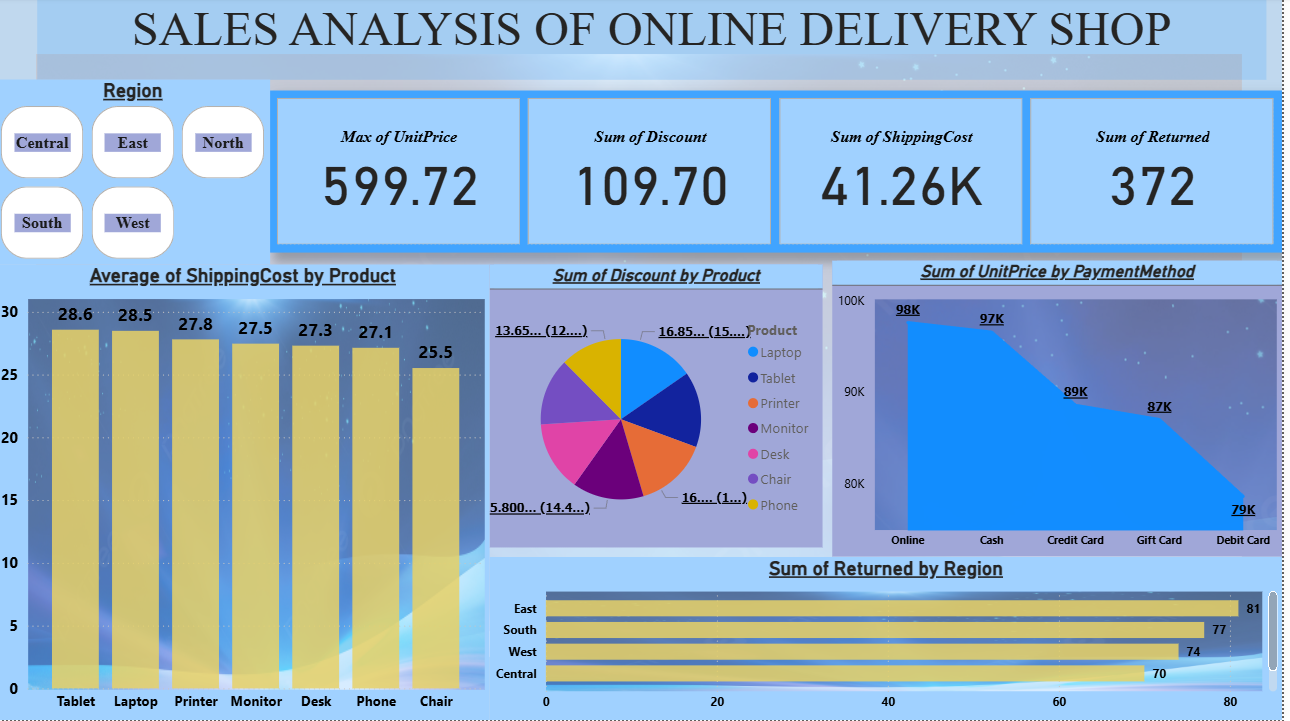

The dashboard page shown, as its layout file describes it:
{"tool":"powerbi","page":{"name":"Page 1","canvas":[1280,720],"ordinal":0},"visuals":[{"type":"textbox","box":[41.1,0,1222.8,82.1],"z":0},{"type":"cardVisual","fields":{"Data":["Max(Sheet1.UnitPrice)","Sum(Sheet1.Discount)","Sum(Sheet1.ShippingCost)","Sum(Sheet1.Returned)"]},"box":[272.4,93.3,1007.6,160.5],"z":1000},{"type":"columnChart","fields":{"Category":["Sheet1.Product"],"Y":["Avg(Sheet1.ShippingCost)"]},"box":[0,266.2,491.4,454],"z":2000},{"type":"areaChart","fields":{"Category":["Sheet1.PaymentMethod"],"Y":["Sum(Sheet1.UnitPrice)"]},"box":[832.6,262.8,447.7,294.2],"z":3000},{"type":"advancedSlicerVisual","fields":{"Values":["Sheet1.Region"]},"box":[0,82.1,272.4,184.1],"z":4000},{"type":"pieChart","fields":{"Category":["Sheet1.Product"],"Y":["Sum(Sheet1.Discount)"]},"box":[491.9,266.3,331.4,281.4],"z":5000},{"type":"clusteredBarChart","fields":{"Category":["Sheet1.Region"],"Y":["Sum(Sheet1.Returned)"]},"box":[491.4,557.3,788.7,163],"z":6000}]}

Visuals, with their boxes in screenshot pixels (x1, y1, x2, y2), scaled from the page's 1280x720 canvas onto the 1290x721 screenshot:
textbox: {"left": 41, "top": 0, "right": 1274, "bottom": 82}
cardVisual - Max(Sheet1.UnitPrice) x Sum(Sheet1.Discount): {"left": 275, "top": 93, "right": 1289, "bottom": 254}
columnChart - Sheet1.Product x Avg(Sheet1.ShippingCost): {"left": 0, "top": 267, "right": 495, "bottom": 720}
areaChart - Sheet1.PaymentMethod x Sum(Sheet1.UnitPrice): {"left": 839, "top": 263, "right": 1289, "bottom": 558}
advancedSlicerVisual - Sheet1.Region: {"left": 0, "top": 82, "right": 275, "bottom": 267}
pieChart - Sheet1.Product x Sum(Sheet1.Discount): {"left": 496, "top": 267, "right": 830, "bottom": 548}
clusteredBarChart - Sheet1.Region x Sum(Sheet1.Returned): {"left": 495, "top": 558, "right": 1289, "bottom": 720}
